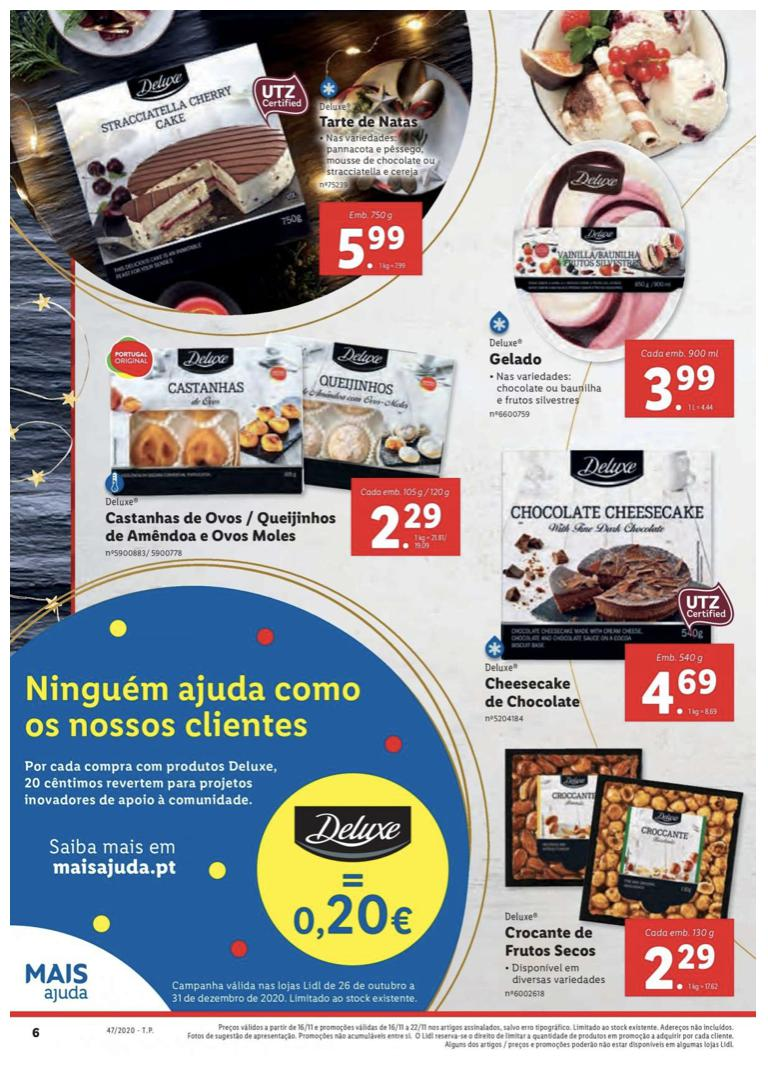name: (99, 506, 343, 545), (479, 673, 587, 713), (500, 922, 601, 961), (319, 111, 427, 133), (485, 347, 544, 367)
price: (621, 639, 740, 727), (620, 335, 740, 421), (621, 917, 737, 999), (315, 198, 427, 278)
product: (49, 46, 467, 295), (76, 313, 477, 570), (469, 442, 753, 734), (481, 137, 753, 435), (468, 743, 756, 1003)
